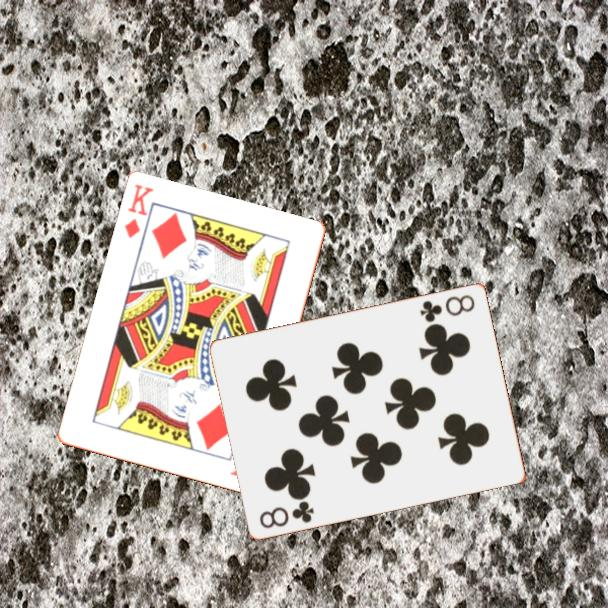c08: (416, 291, 478, 325), (256, 497, 317, 531)
d13: (121, 181, 157, 242)
